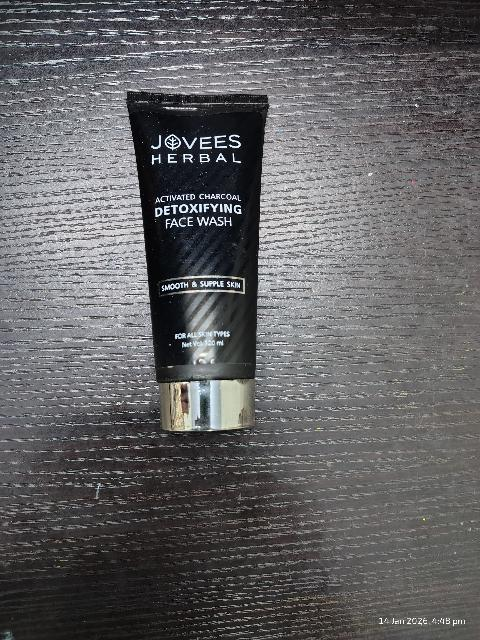jovees herbal: (126, 94, 278, 432)
